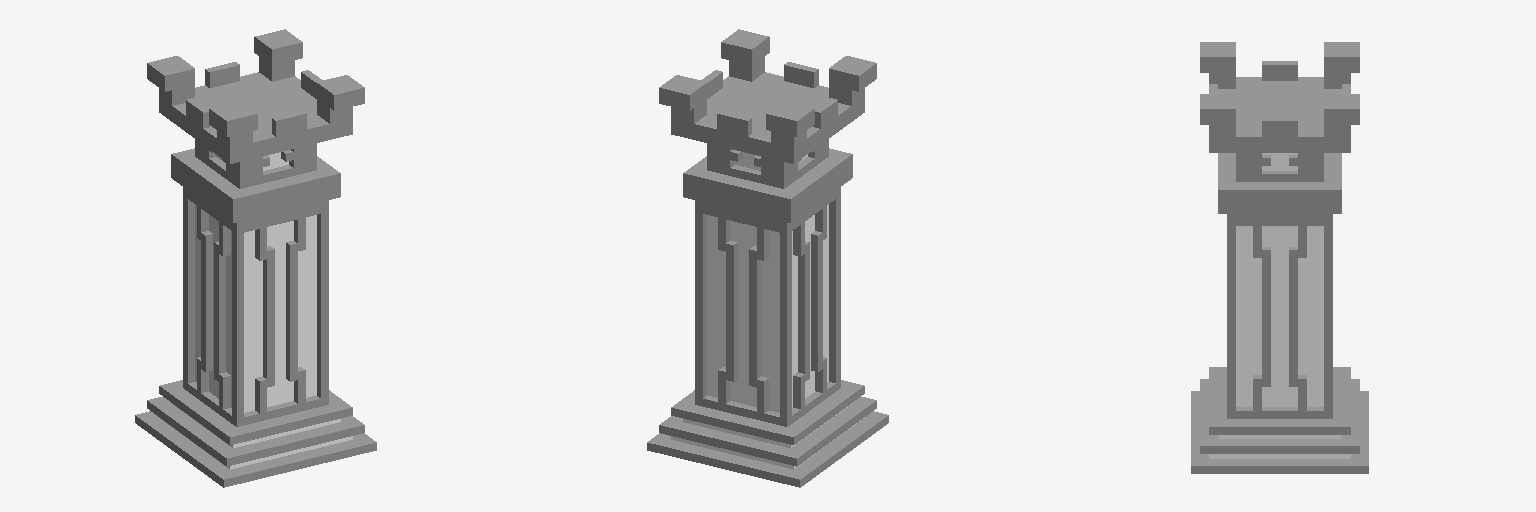
3 views of the same model, side by side, from view 1: azimuth 30°, elevation 25°; view 2: azimuth 150°, elevation 25°; view 3: azimuth 270°, elevation 25° (orthographic).
Visible parts, largest first — view 1: Model; view 2: Model; view 3: Model.
Boxes of the visible parts, box(x1,y1,x2,y2) form: Model: box(135, 29, 376, 487); Model: box(647, 29, 888, 487); Model: box(1191, 42, 1368, 473).
Bounding box in the file's own units: 14.22 × 32 × 14.22.
Materials: 1 (1 with a texture image).